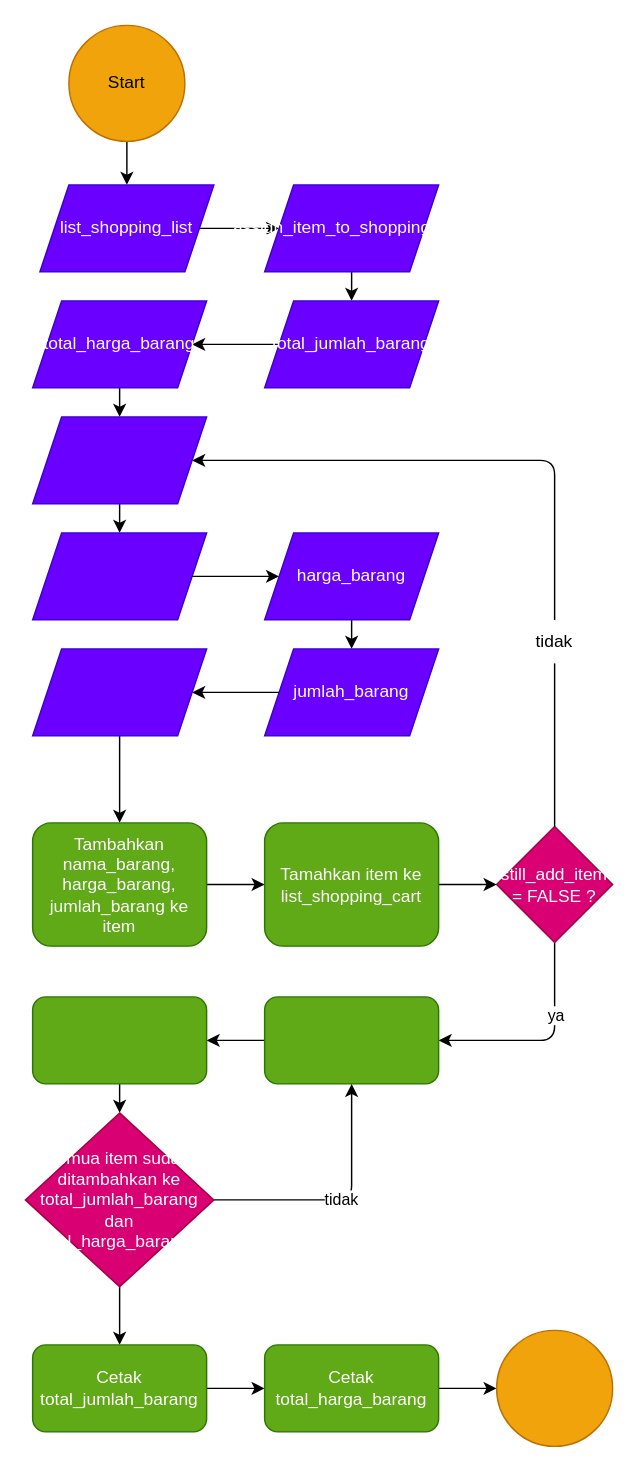
Some shapes in this 638 by 1472 pixel diagram are drawn without their labels. Each missing label, with the centre of its shape:
End: (x=554, y=1387)
item: (x=119, y=459)
nama_barang: (x=119, y=575)
still_add_item: (x=119, y=691)
tambahkan item (jumlah_barang * harga_barang) ke total_harga_barang: (x=119, y=1039)
tambahkan item (jumlah_barang) ke total_jumlah_barang: (x=351, y=1039)
